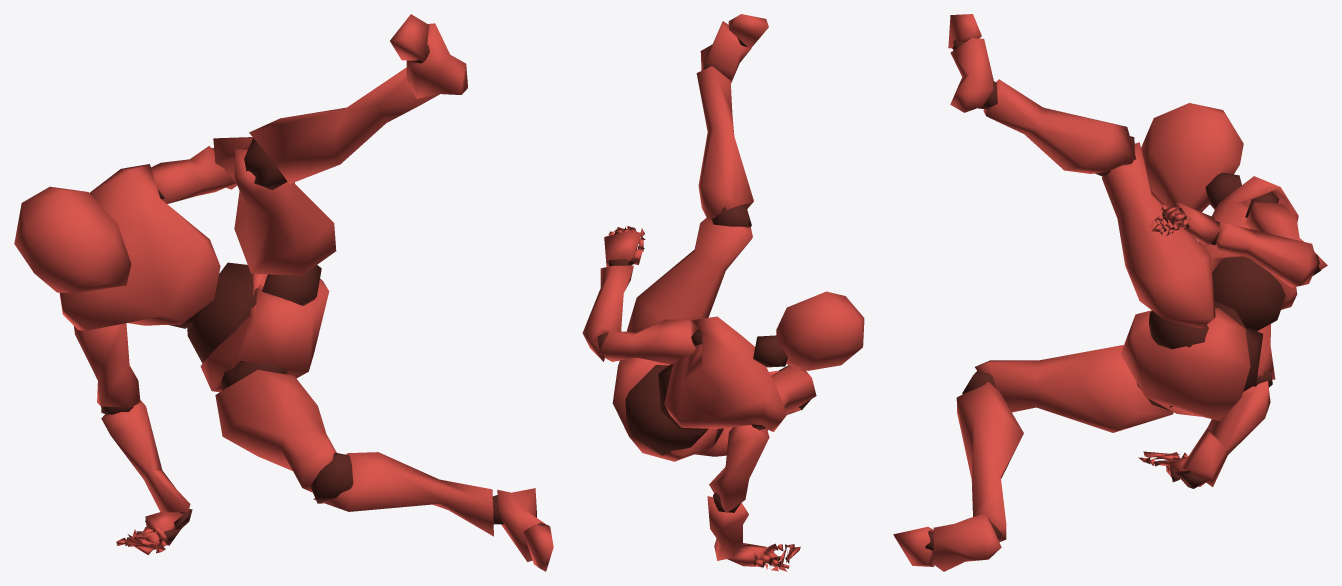
3 renders of one model, left to right at view 1: azimuth 30°, elevation 25°; view 2: azimuth 150°, elevation 25°; view 3: azimuth 270°, elevation 25°, orthographic. The views are drawn at different scales.
Visible parts, largest first — view 1: Beta_Surface; view 2: Beta_Surface; view 3: Beta_Surface.
Part boxes in pixels (<box>): Beta_Surface: <box>14,14,553,571</box>; Beta_Surface: <box>582,14,864,571</box>; Beta_Surface: <box>893,14,1327,571</box>.
Size of the model in its own units: 9.99 by 13.87 by 10.38.
